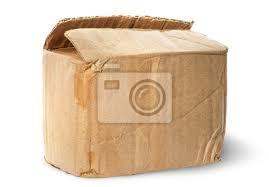cardboard: (42, 13, 226, 177)
